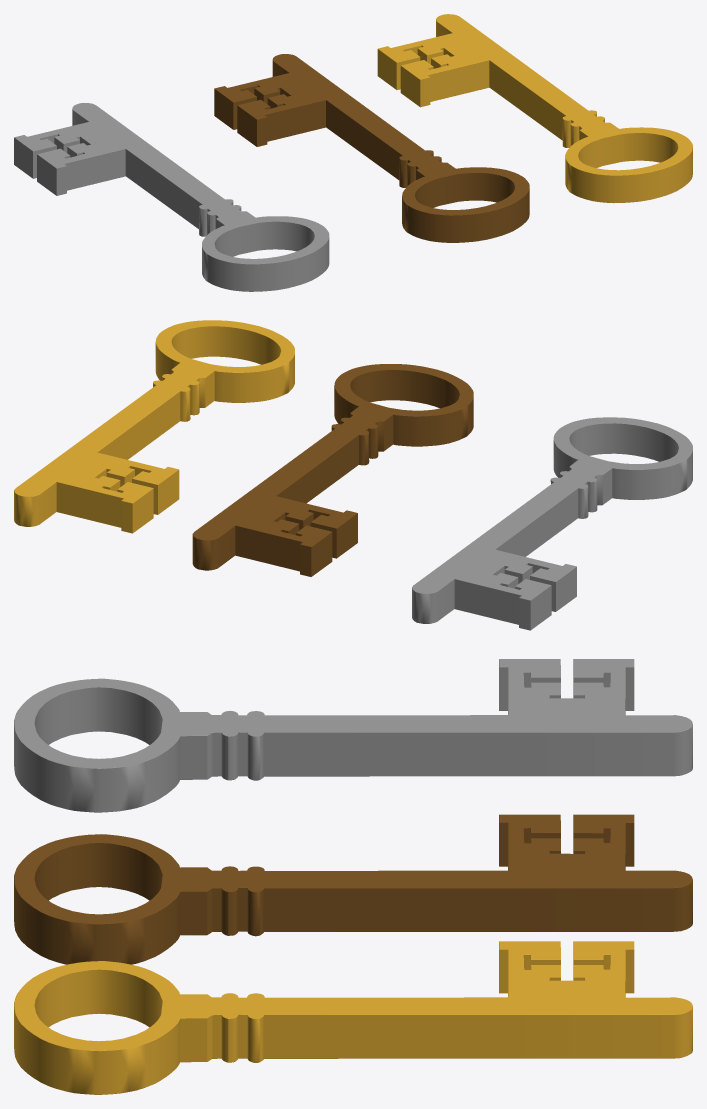
File: 3-LLAVES.fbx
3 views of the same model, one above another, from view 1: azimuth 30°, elevation 25°; view 2: azimuth 150°, elevation 25°; view 3: azimuth 270°, elevation 25° (orthographic). The views are drawn at different scales.
Parts seen in each view (by area): view 1: Vert.002, Vert.001, Vert.003; view 2: Vert.001, Vert.002, Vert.003; view 3: Vert.001, Vert.003, Vert.002.
Part boxes in pixels (x1=…): Vert.002: x1=214, y1=54, x2=529, y2=242; Vert.001: x1=377, y1=14, x2=692, y2=203; Vert.003: x1=14, y1=103, x2=329, y2=291; Vert.001: x1=14, y1=320, x2=294, y2=533; Vert.002: x1=192, y1=364, x2=473, y2=576; Vert.003: x1=412, y1=417, x2=692, y2=630; Vert.001: x1=14, y1=941, x2=692, y2=1094; Vert.003: x1=14, y1=659, x2=692, y2=812; Vert.002: x1=14, y1=814, x2=692, y2=964.
Size of the model in its own units: 6725 by 353 by 4923.
